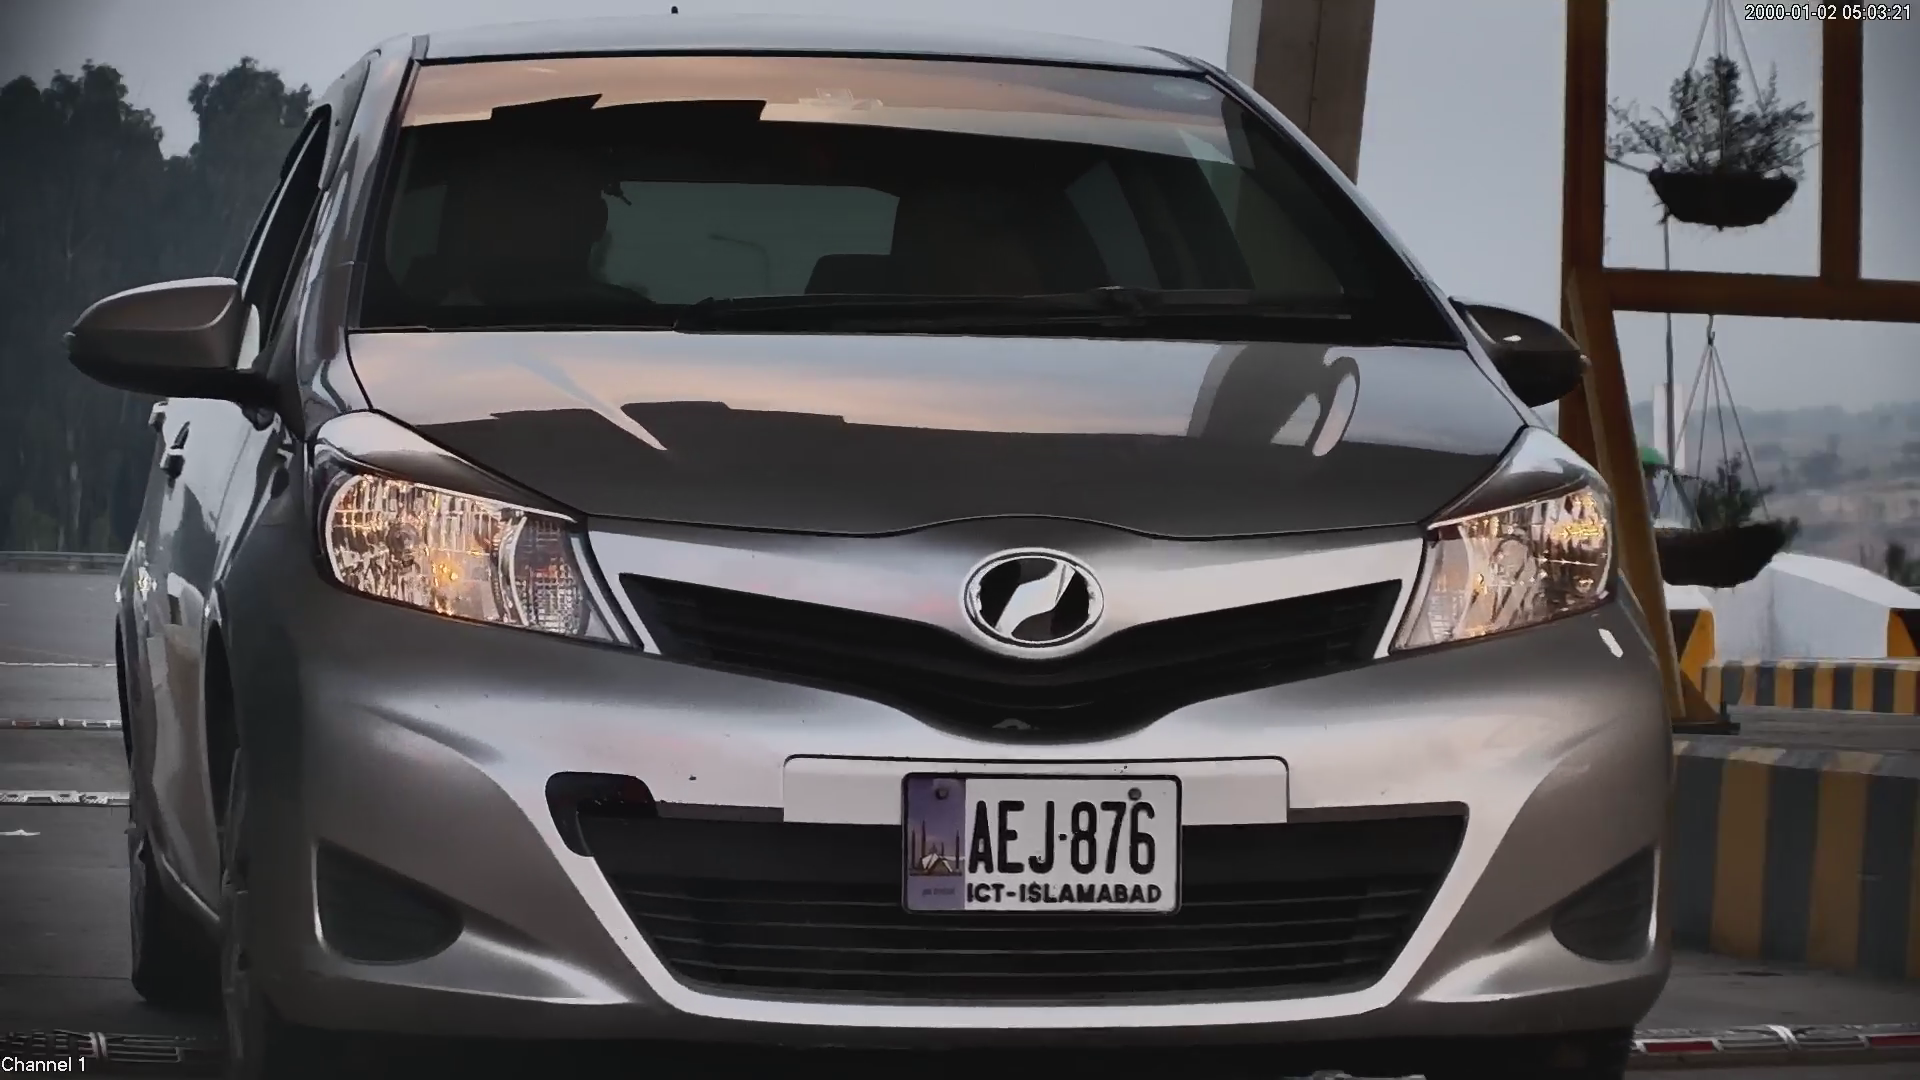Number_Plate: (896, 762, 1191, 928)
